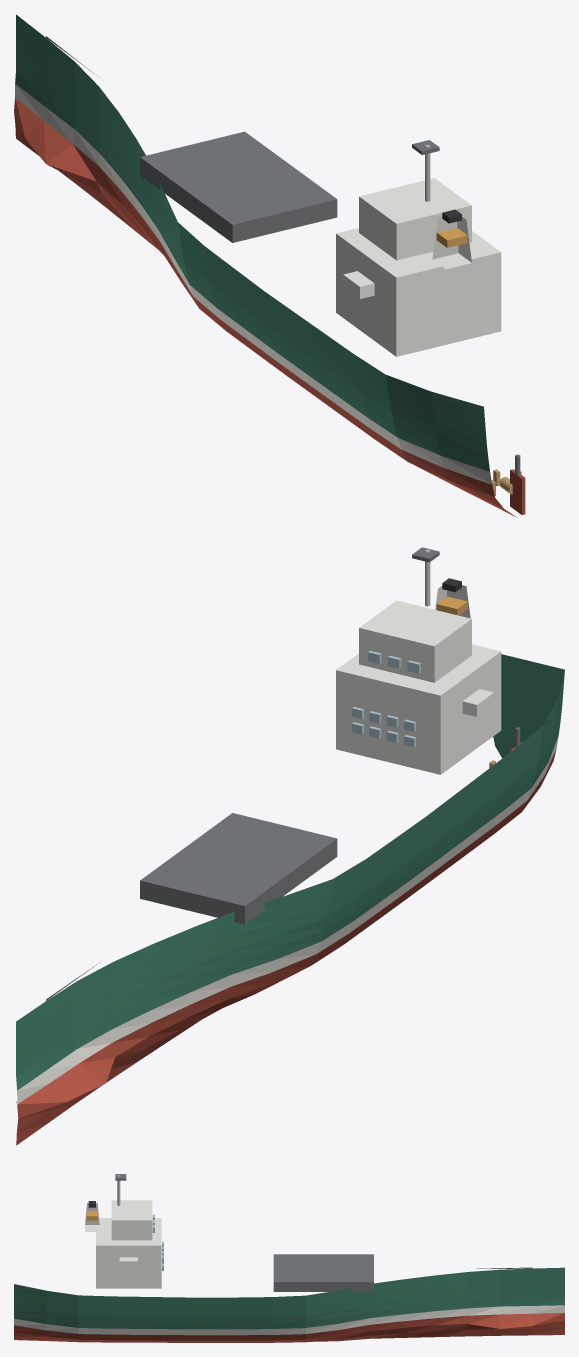
Rendered from merchant_lod2.glb.
3 renders of one model, top to bottom at view 1: azimuth 30°, elevation 25°; view 2: azimuth 150°, elevation 25°; view 3: azimuth 270°, elevation 25°, orthographic. The views are drawn at different scales.
Parts seen in each view (by area): view 1: ship; view 2: ship; view 3: ship.
Boxes of the visible parts, bbox=[...] form: ship: bbox=[14, 14, 525, 517]; ship: bbox=[16, 547, 564, 1145]; ship: bbox=[14, 1174, 564, 1342].
Bounding box in the file's own units: 0.5564 × 0.99 × 3.02.
